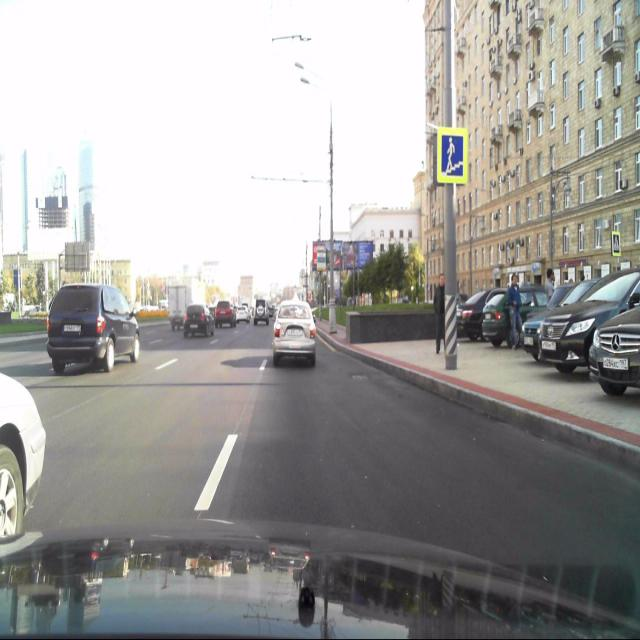road sign: (437, 129, 468, 185), (612, 231, 622, 257)
